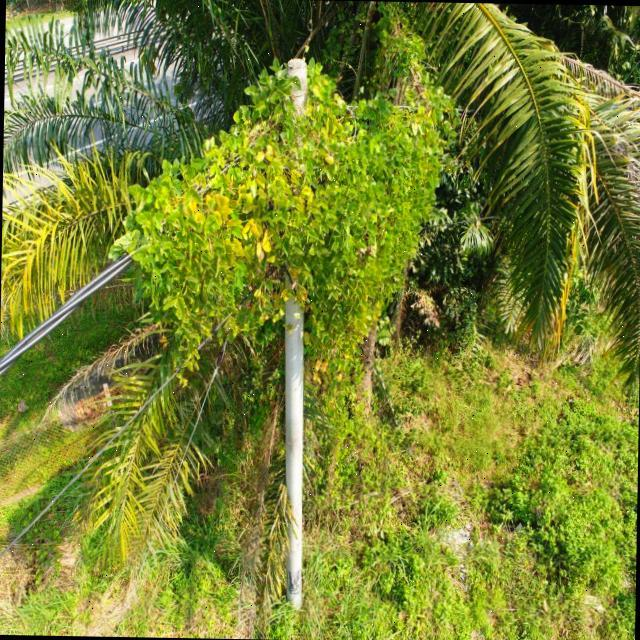critical vegetation: (154, 42, 443, 321)
